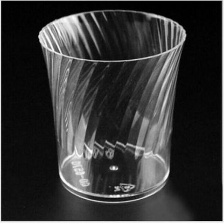glass: (29, 4, 194, 208)
